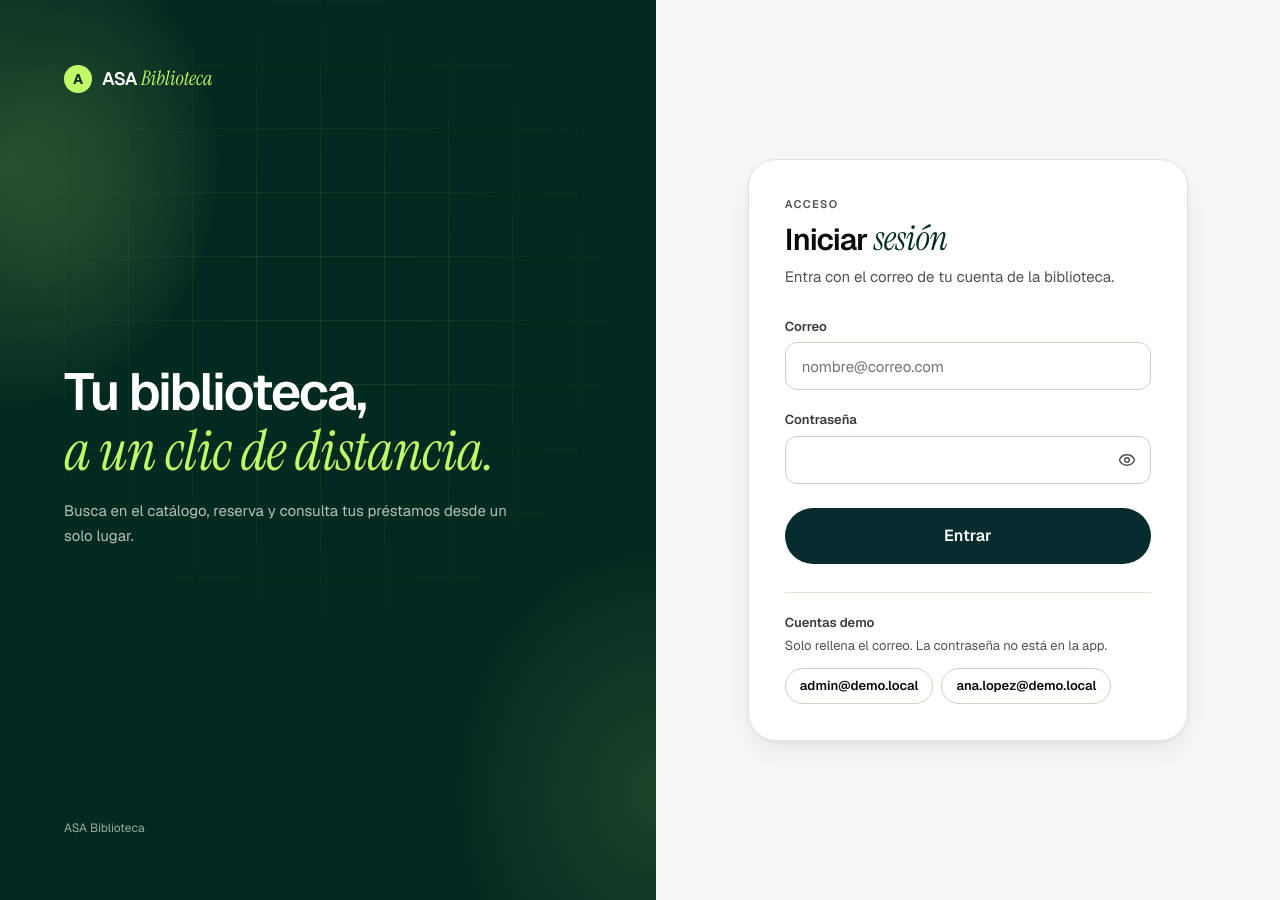
Test: login › muestra credenciales-invalidas en el formulario
The image size is (1280, 900).
In the field labelled "Correo": (968,366) left=785, top=342, right=1151, bottom=390, type "ana@demo.local"
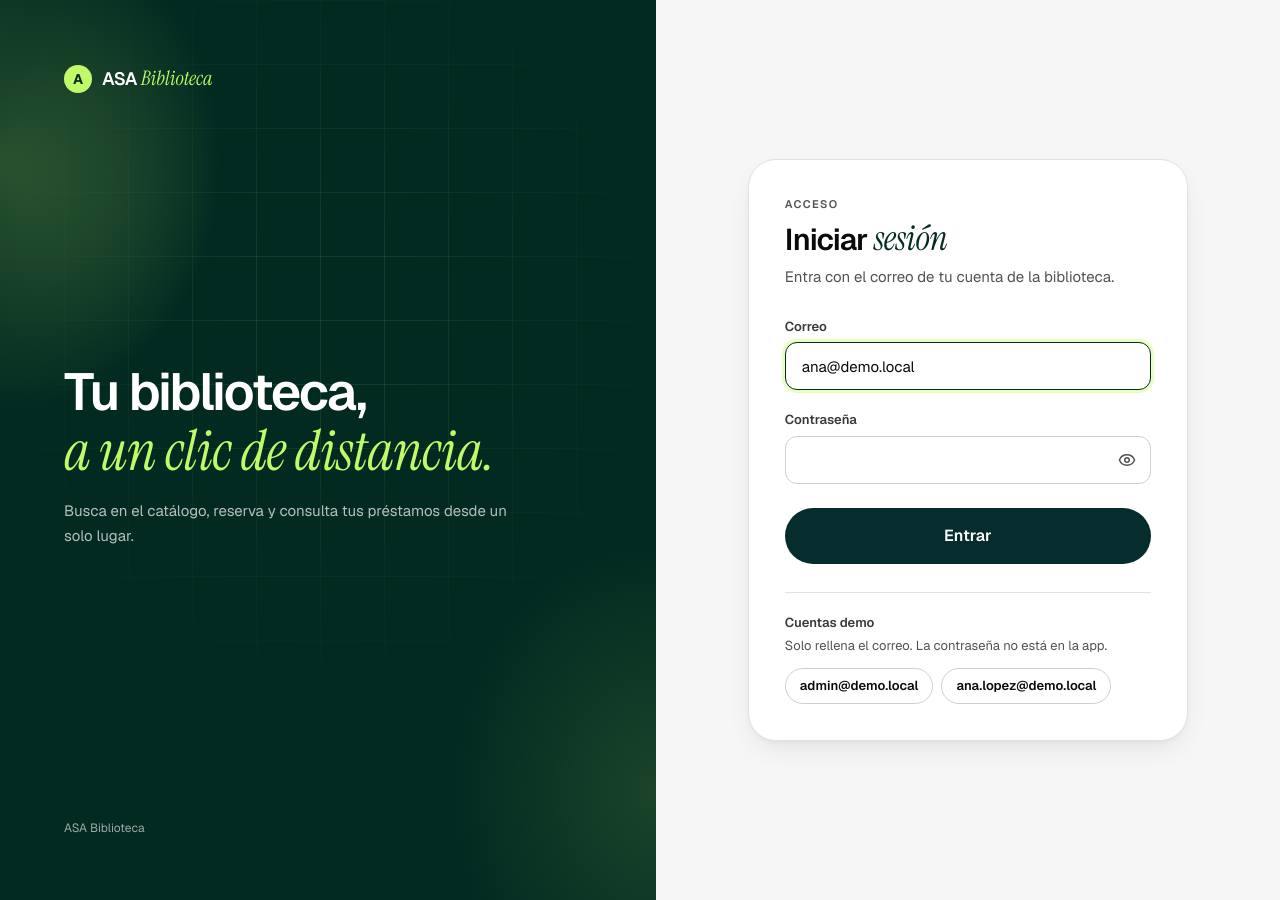
In the password field labelled "Contraseña": (968,460) left=785, top=436, right=1151, bottom=484, type "incorrecta"
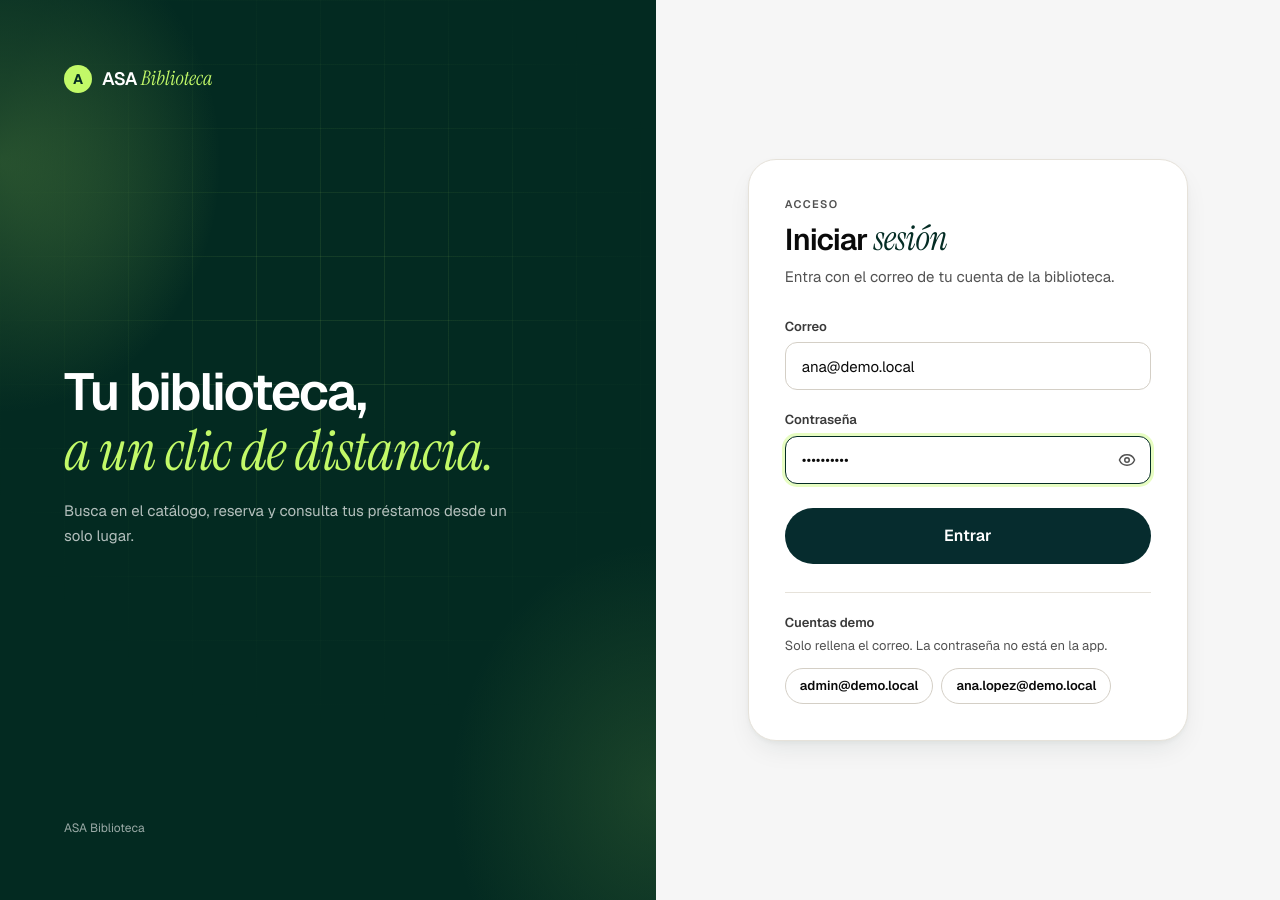
Click the button "Entrar": (968,536) left=785, top=508, right=1151, bottom=564
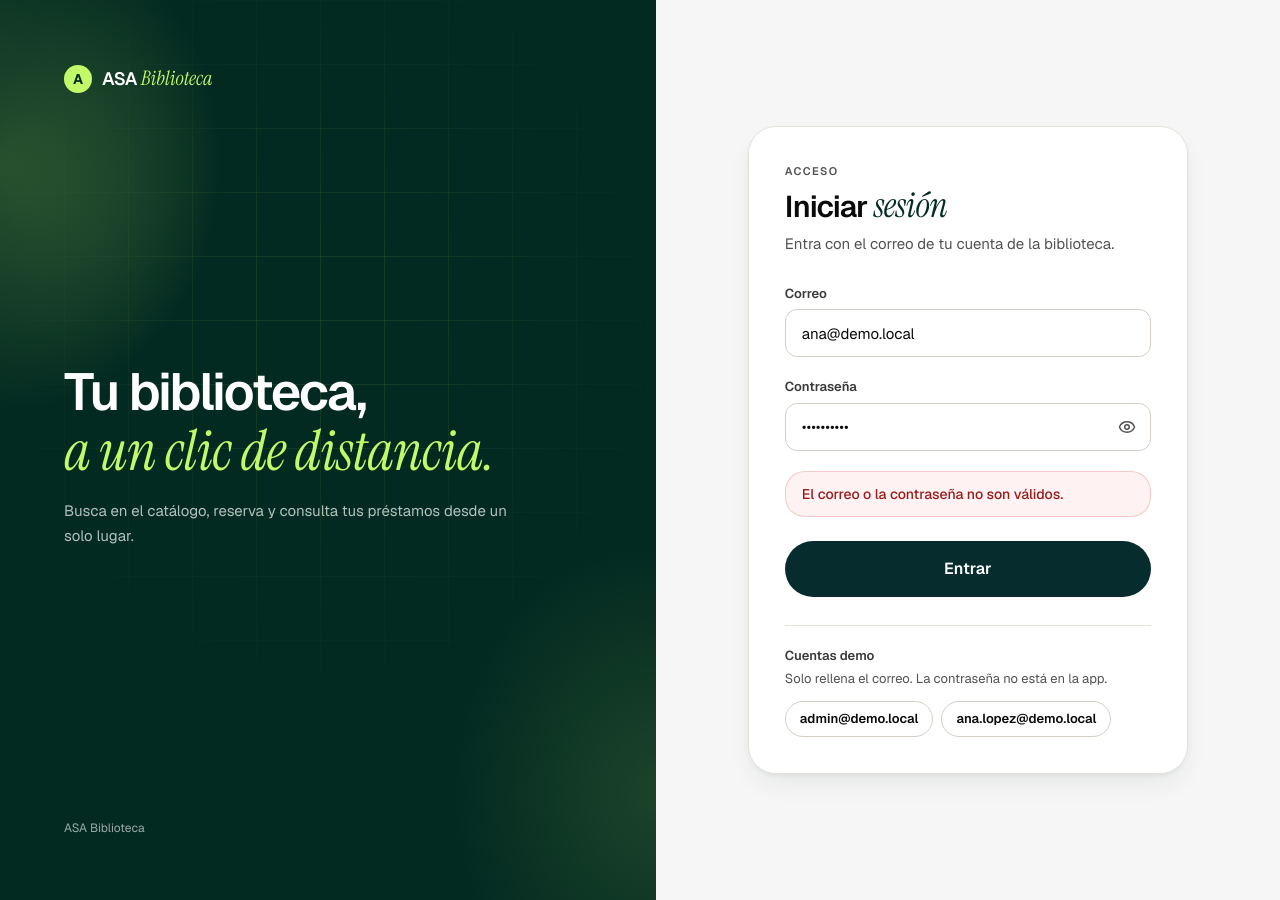
Result: the message reads "El correo o la contraseña no son válidos." at left=802, top=485, right=1063, bottom=503
